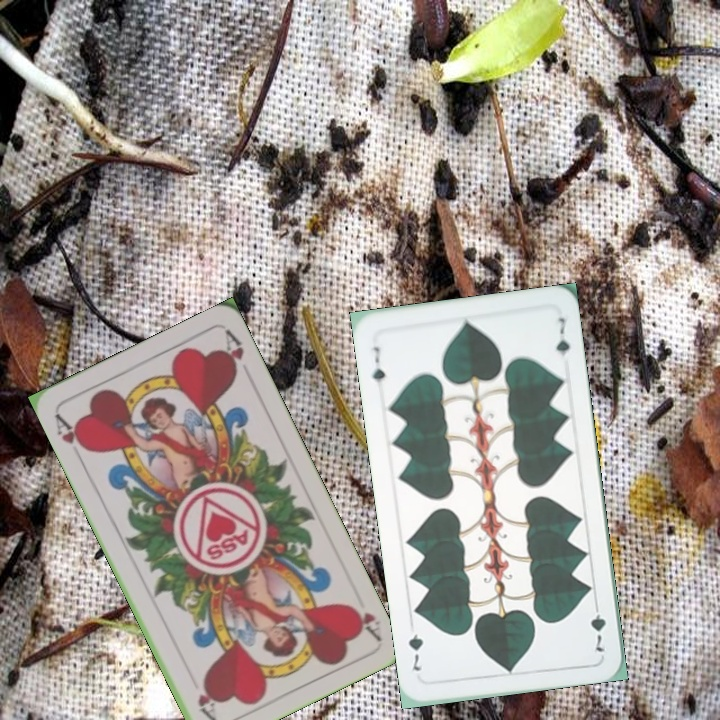G7: (587, 597, 608, 656), (368, 342, 388, 385)
HA: (51, 409, 92, 464), (344, 600, 384, 643)
